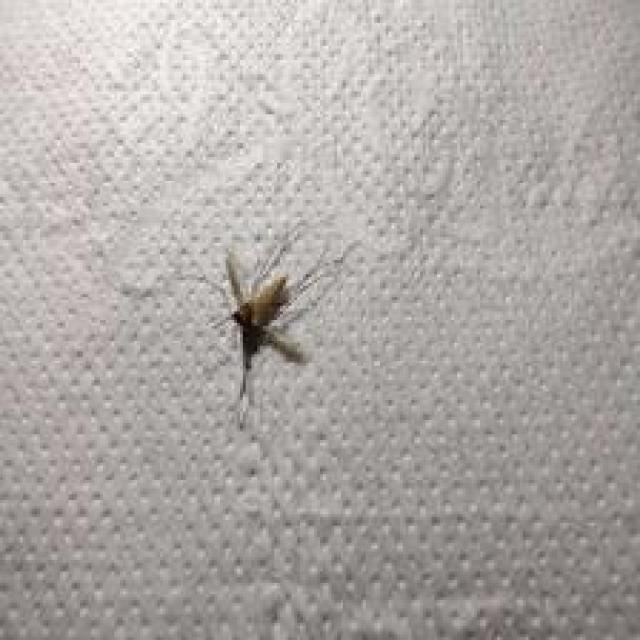Culex: (193, 226, 358, 428)
